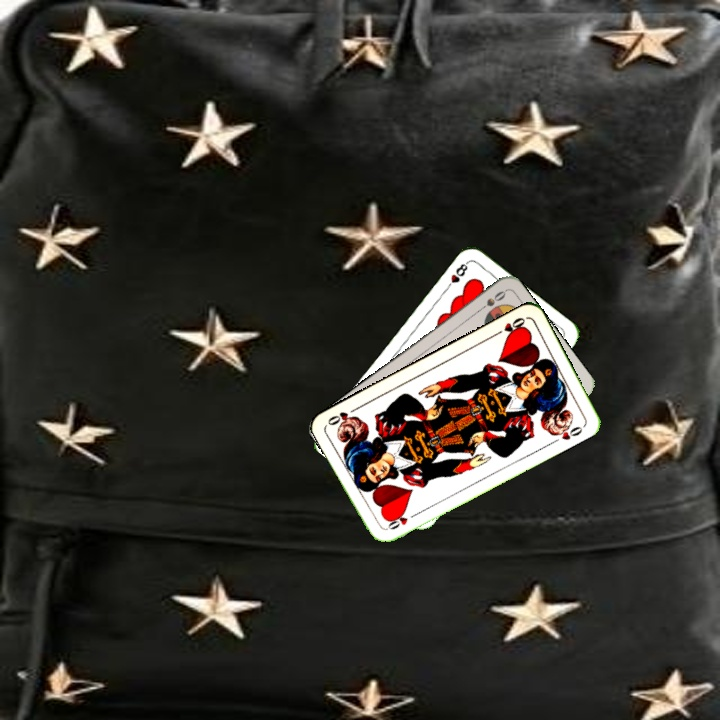H8: (442, 258, 471, 293)
HO: (491, 313, 528, 339), (381, 509, 410, 533)
SO: (473, 286, 508, 315)
